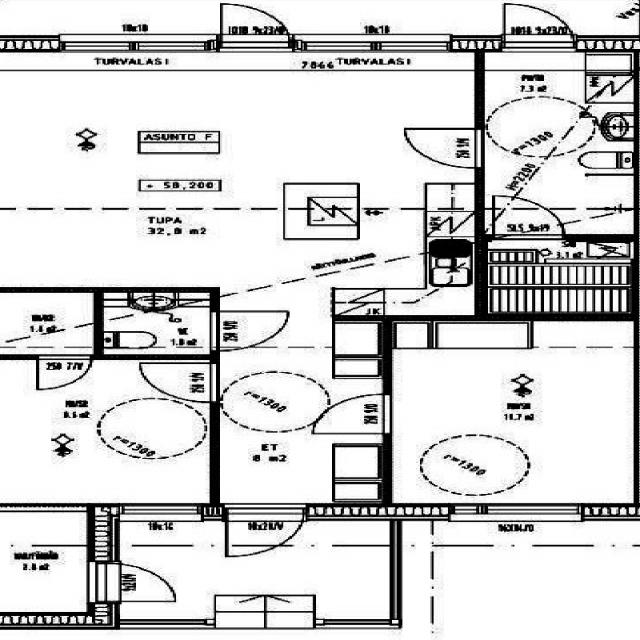door: (228, 503, 302, 562), (87, 563, 186, 601), (219, 0, 288, 52), (505, 0, 572, 52), (493, 195, 564, 241), (404, 128, 484, 168), (311, 394, 392, 433), (139, 363, 219, 402), (210, 311, 290, 350), (38, 354, 91, 390)
